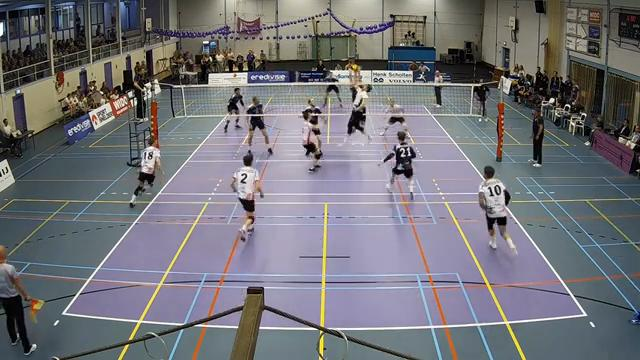alzata: (343, 65, 374, 149)
muro: (347, 61, 364, 104)
